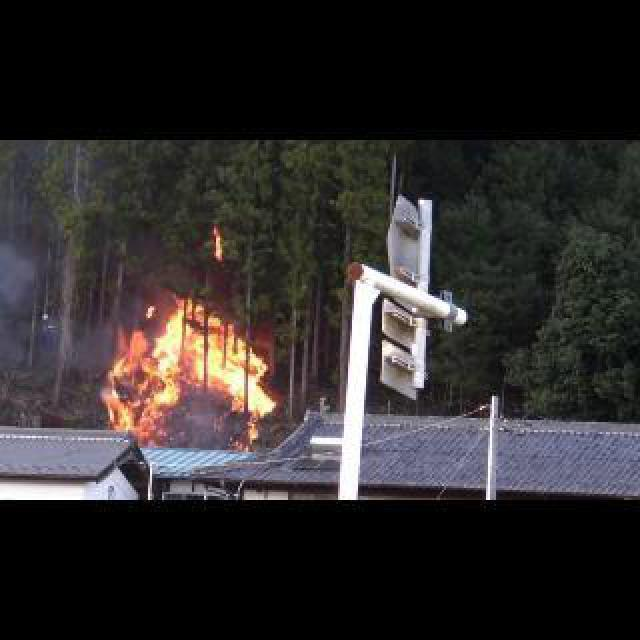Fire: (100, 292, 278, 448), (214, 224, 224, 260)
